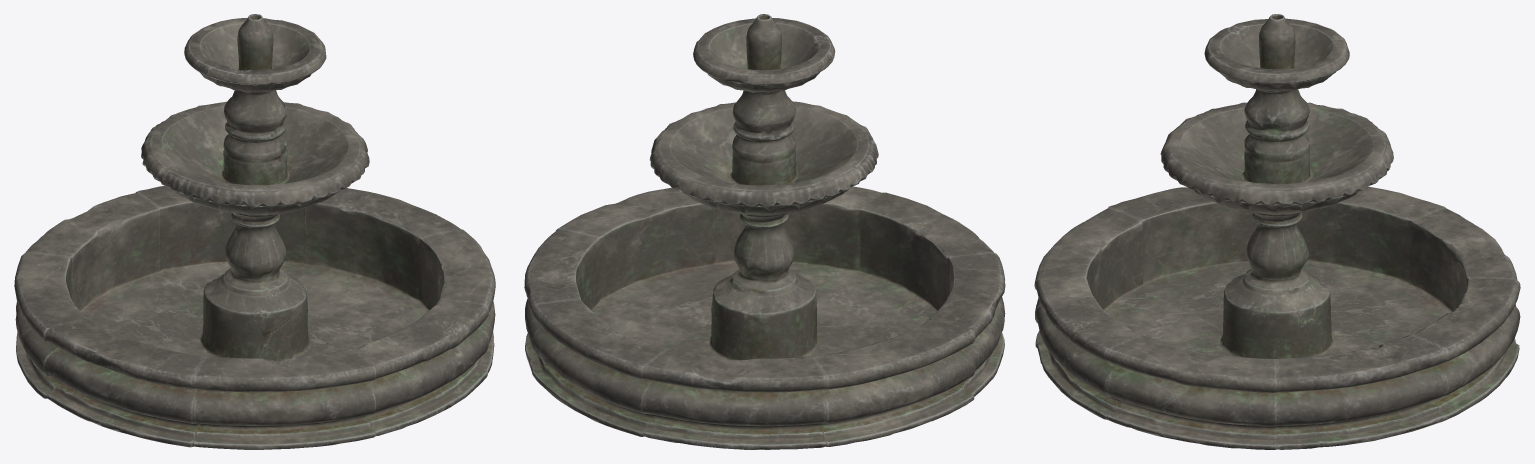
File: SM_Fountain_1.fbx
3 views of the same model, side by side, from view 1: azimuth 30°, elevation 25°; view 2: azimuth 150°, elevation 25°; view 3: azimuth 270°, elevation 25° (orthographic).
Parts seen in each view (by area): view 1: SM_Fountain_1_LOD0; view 2: SM_Fountain_1_LOD0; view 3: SM_Fountain_1_LOD0.
Boxes of the visible parts, x1,y1,x2,y2 form: SM_Fountain_1_LOD0: (14, 14, 495, 449); SM_Fountain_1_LOD0: (524, 14, 1005, 449); SM_Fountain_1_LOD0: (1034, 14, 1520, 449).
Bounding box in the file's own units: 554 × 553 × 418.
1 material, 1 textured.
